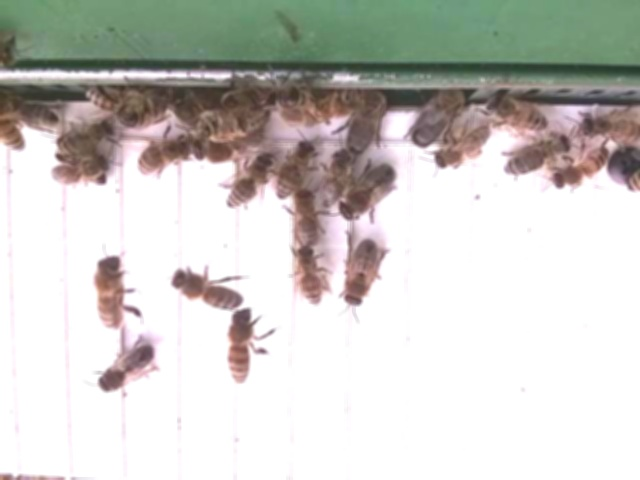Drone: (336, 157, 400, 226), (409, 89, 465, 151), (94, 341, 157, 396), (337, 239, 380, 312), (342, 91, 388, 157)
Worker: (219, 151, 280, 216), (499, 131, 578, 181), (542, 142, 612, 197), (166, 269, 245, 311), (192, 106, 266, 149), (430, 124, 492, 172), (485, 93, 551, 138), (90, 254, 127, 333), (315, 150, 362, 210), (112, 85, 172, 132), (273, 72, 322, 127), (274, 137, 316, 200), (134, 135, 189, 183), (55, 116, 120, 156), (226, 308, 258, 388), (290, 245, 325, 312), (48, 153, 112, 188), (574, 107, 639, 141), (288, 189, 322, 252)
